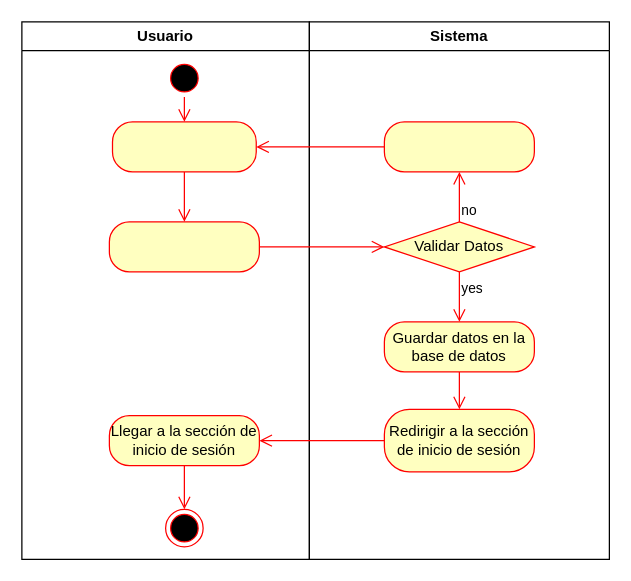
The diagram is 631 pixels wide and 581 high, and some of its shapes have lost their labels. The shapes that lost their labels are listed below. From the top down, each one's centre as x and y in pixels, then its label:
At pixel 183 146: "Rellenar los campos".
At pixel 458 146: "Enviar mensaje de error".
At pixel 183 246: "Apretar botón de registro".
